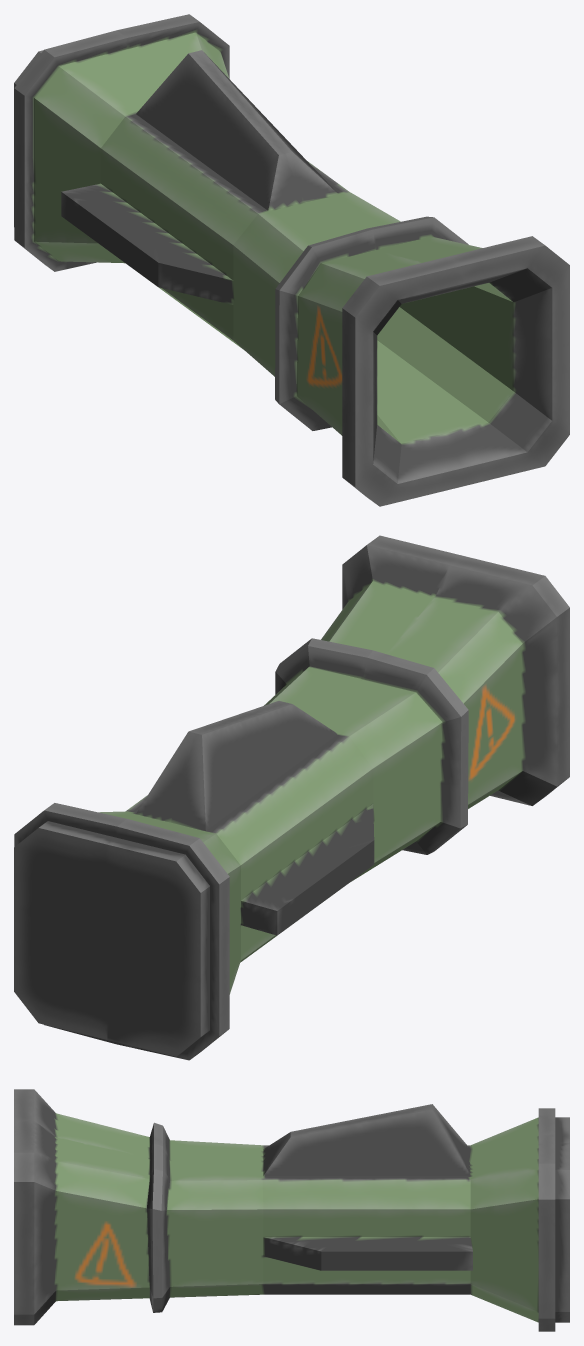
The model's file is gun_module_rocket.fbx.
The picture shows the model from 3 angles, top to bottom: view 1: azimuth 30°, elevation 25°; view 2: azimuth 150°, elevation 25°; view 3: azimuth 270°, elevation 25°; orthographic projection. The views are drawn at different scales.
Visible parts, largest first — view 1: rocket_module; view 2: rocket_module; view 3: rocket_module.
Boxes of the visible parts, x1,y1,x2,y2 form: rocket_module: (14, 14, 569, 506); rocket_module: (14, 535, 569, 1060); rocket_module: (14, 1089, 569, 1331).
Size of the model in its own units: 7.73 by 8.68 by 22.02.
